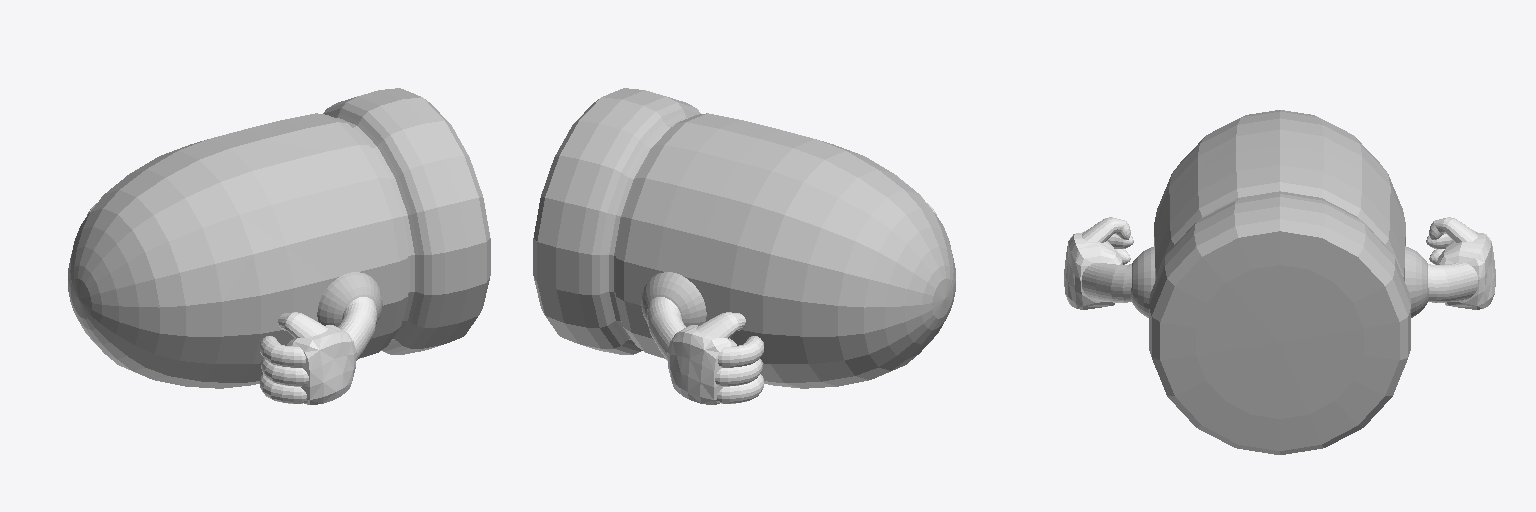
The model's file is bullet.obj.
3 renders of one model, left to right at view 1: azimuth 30°, elevation 25°; view 2: azimuth 150°, elevation 25°; view 3: azimuth 270°, elevation 25°, orthographic.
Parts seen in each view (by area): view 1: Cylinder001; view 2: Cylinder001; view 3: Cylinder001.
Boxes of the visible parts, box(x1,y1,x2,y2) form: Cylinder001: box(68, 88, 490, 404); Cylinder001: box(533, 88, 955, 404); Cylinder001: box(1064, 110, 1495, 454).
Size of the model in its own units: 30.75 by 20.07 by 32.51.